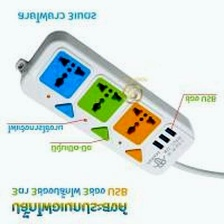three_eye_plug: (13, 28, 198, 178)
